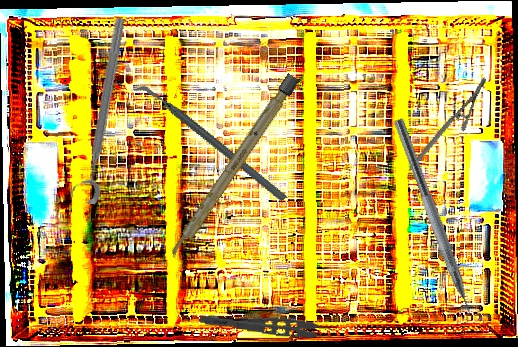Chopper: (130, 47, 290, 240), (379, 117, 484, 337)
Fixation Ring: (67, 14, 131, 206)
Needle Holder: (388, 76, 507, 171)
Scalpel Handle: (167, 73, 300, 261)
Tissue Forceps: (198, 312, 340, 346)
